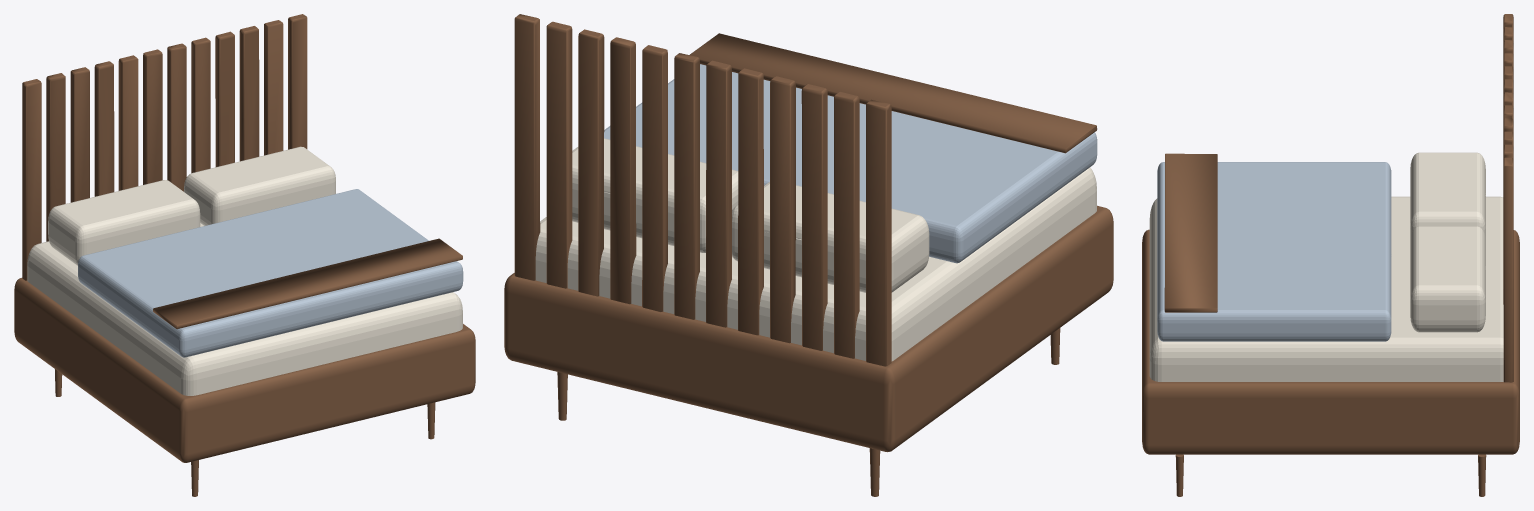
The model's file is bed-2-1.lod.glb.
The picture shows the model from 3 angles, left to right: view 1: azimuth 30°, elevation 25°; view 2: azimuth 150°, elevation 25°; view 3: azimuth 270°, elevation 25°; orthographic projection. The views are drawn at different scales.
Visible parts, largest first — view 1: part, tailored-cushion (×2); view 2: part, tailored-cushion (×2); view 3: tailored-cushion (×2), part.
Part boxes in pixels (<box>): part: <box>14,14,475,496</box>; tailored-cushion (×2): <box>27,146,463,395</box>; part: <box>504,14,1113,496</box>; tailored-cushion (×2): <box>535,64,1097,361</box>; tailored-cushion (×2): <box>1149,152,1503,381</box>; part: <box>1142,14,1519,496</box>.
Bounding box in the file's own units: 1 × 1 × 1.
